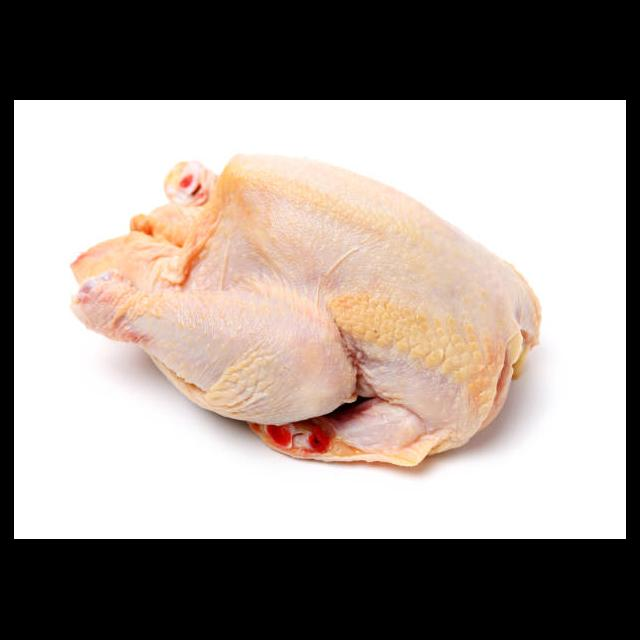chicken: (68, 154, 543, 468)
